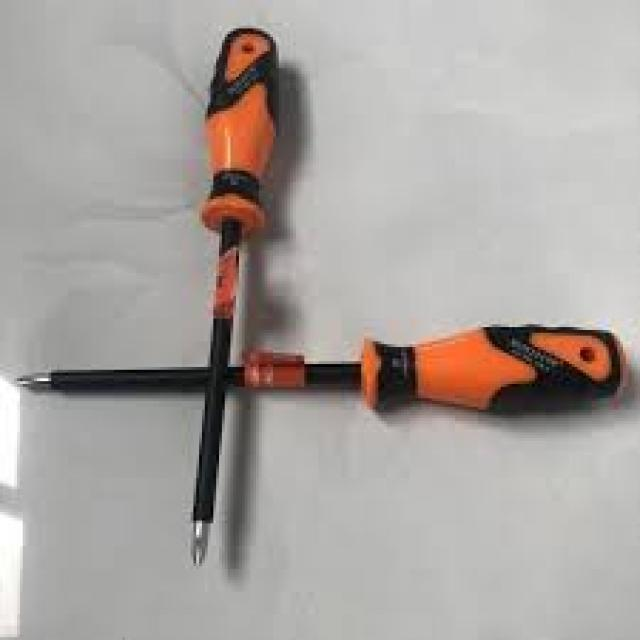screwdriver: (10, 318, 627, 418), (185, 24, 282, 573)
